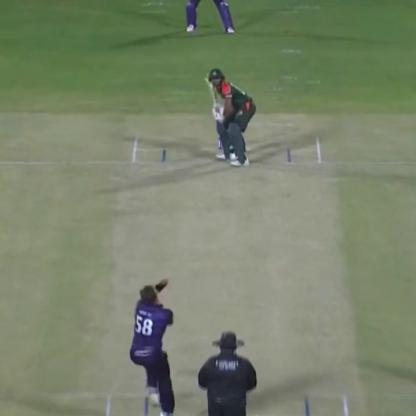bat: (194, 70, 224, 117)
pitch: (107, 142, 358, 415)
